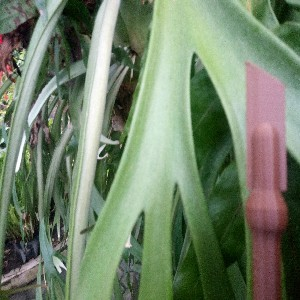cutter: (243, 59, 290, 300)
